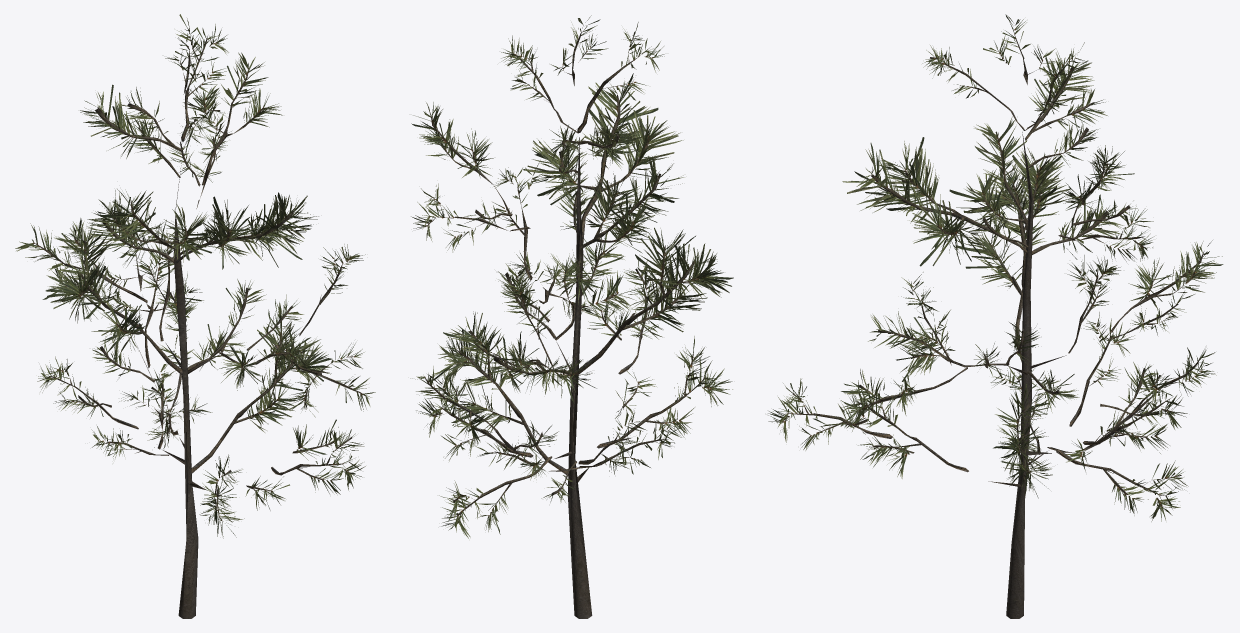
Rendered from pine_sapling_small-game.glb.
3 views of the same model, side by side, from view 1: azimuth 30°, elevation 25°; view 2: azimuth 150°, elevation 25°; view 3: azimuth 270°, elevation 25° (orthographic). The views are drawn at different scales.
Visible parts, largest first — view 1: pine_sapling_small_b; view 2: pine_sapling_small_b; view 3: pine_sapling_small_b.
Part boxes in pixels (<box>): pine_sapling_small_b: <box>15,14,375,618</box>; pine_sapling_small_b: <box>410,15,733,618</box>; pine_sapling_small_b: <box>768,14,1223,618</box>.
Bounding box in the file's own units: 0.5287 × 1.04 × 0.7272.
2 materials, 2 textured.
